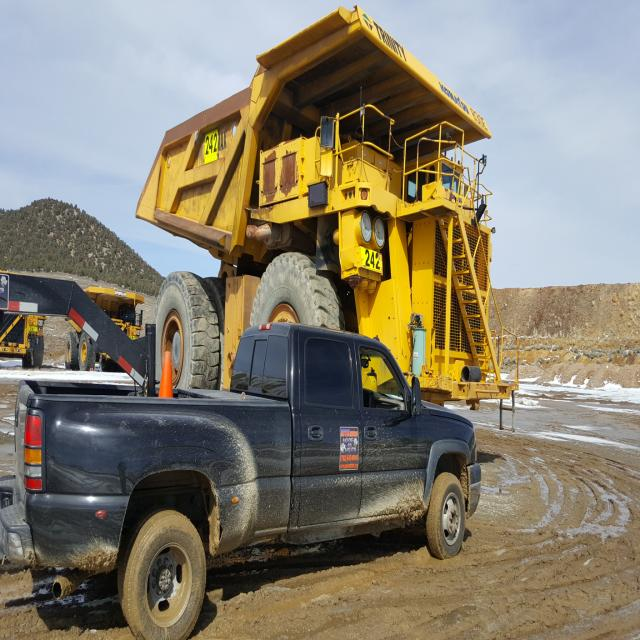dump_truck: (126, 12, 548, 414)
excavator: (17, 334, 511, 632)
